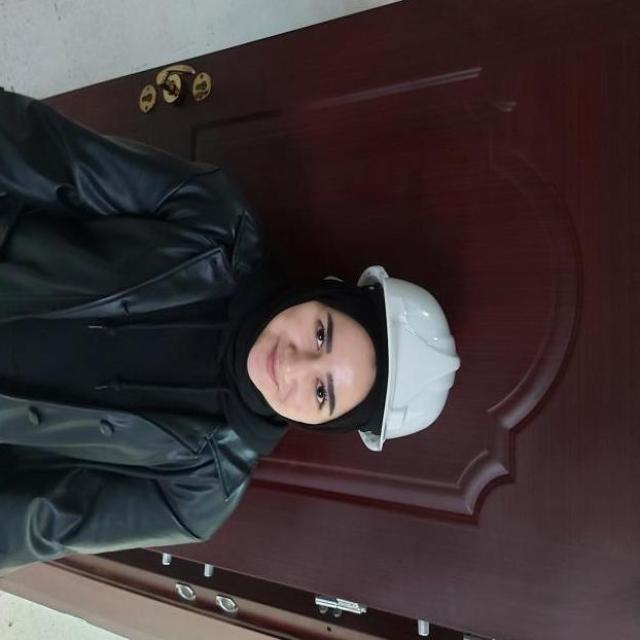white helmet: (368, 258, 468, 472)
